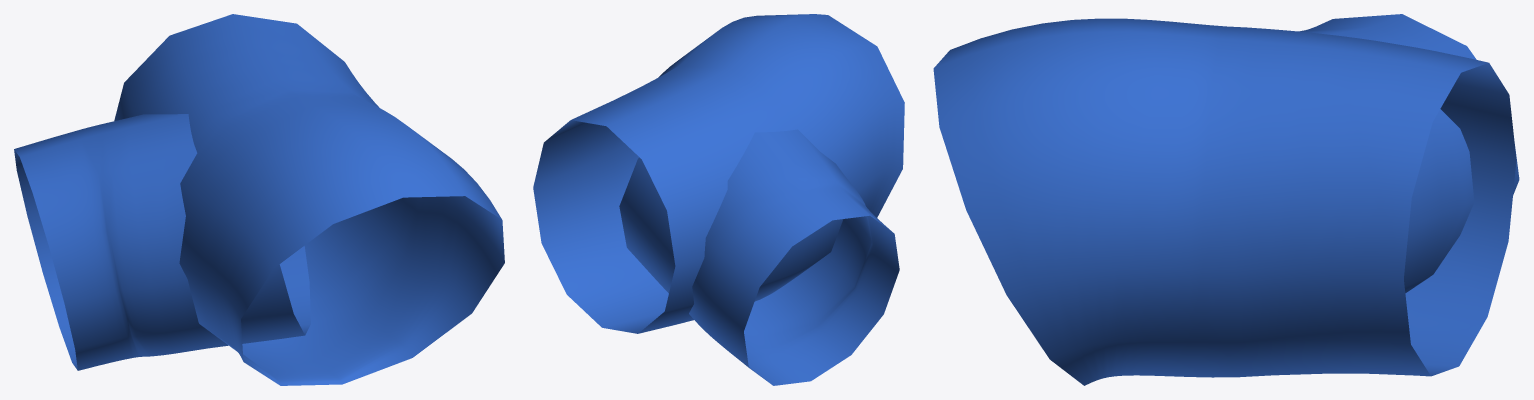
The model's file is circulatorio-bifurcation-of-pulmonary-trunk.glb.
3 views of the same model, side by side, from view 1: azimuth 30°, elevation 25°; view 2: azimuth 150°, elevation 25°; view 3: azimuth 270°, elevation 25° (orthographic). The views are drawn at different scales.
Parts seen in each view (by area): view 1: Bifurcation of pulmonary trunk; view 2: Bifurcation of pulmonary trunk; view 3: Bifurcation of pulmonary trunk.
Boxes of the visible parts, left/top/right/bottom form: Bifurcation of pulmonary trunk: left=14, top=14, right=504, bottom=385; Bifurcation of pulmonary trunk: left=533, top=14, right=904, bottom=385; Bifurcation of pulmonary trunk: left=933, top=14, right=1519, bottom=385.
Size of the model in its own units: 0.04 by 0.0298 by 0.0448.
